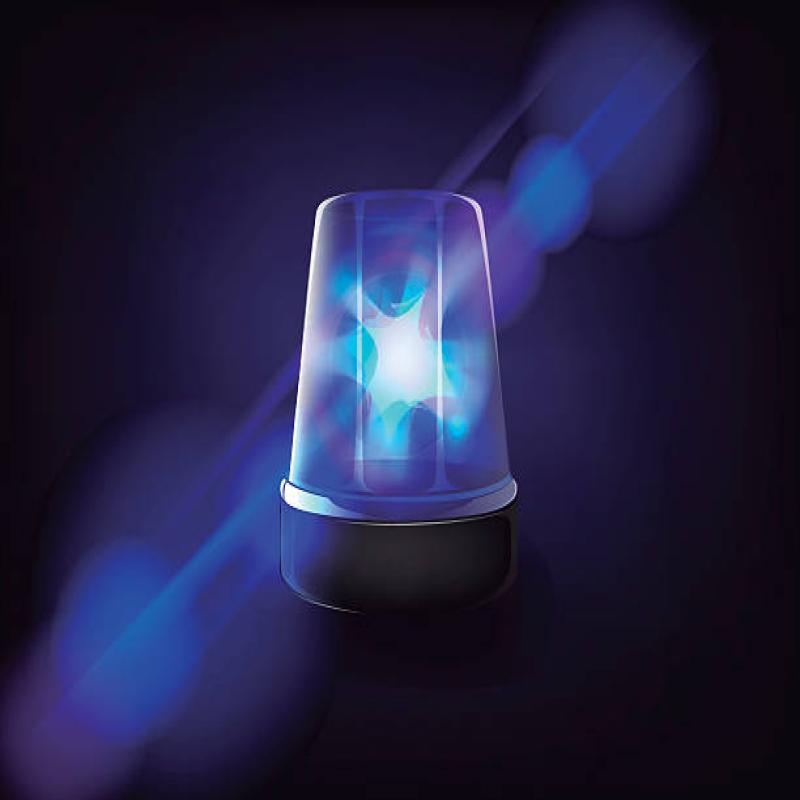AmbulanceSiren: (274, 164, 532, 641)
